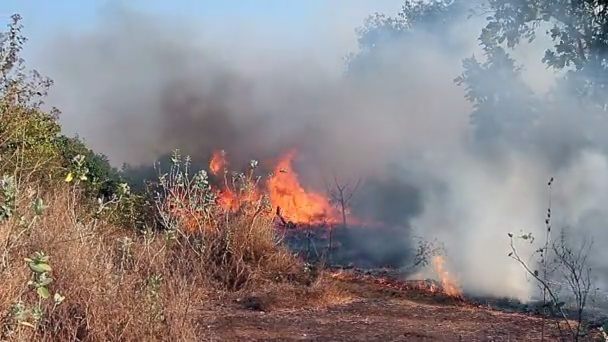fire: (267, 162, 326, 223), (434, 258, 456, 295), (222, 193, 238, 208), (65, 172, 71, 182)
